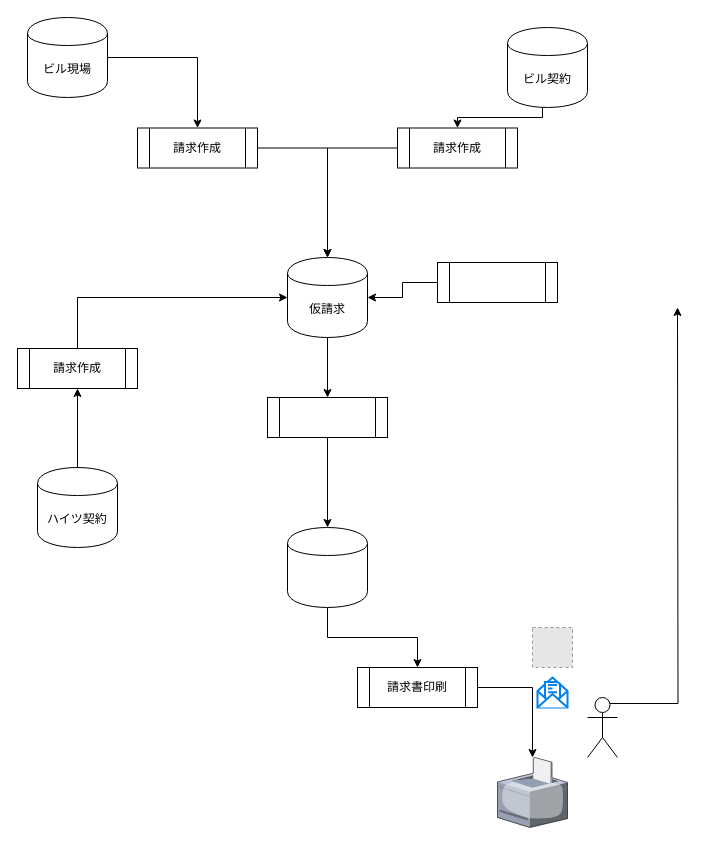
The diagram is 704 pixels wide and 845 high, and some of its shapes have lost their labels. Grey dashed boxes stand in for pictures. The shapes that lost their labels are listed below. From the top down, each one's box as (x1, y1, x2, y2) in pixels, then its label:
(436, 262, 558, 302): 変動費入力
(266, 396, 388, 438): 請求確定
(286, 526, 368, 608): 請求
(586, 696, 618, 758): Actor
